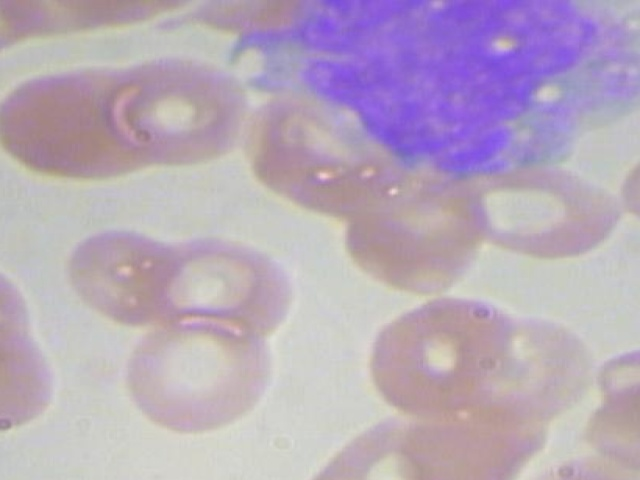RBC: (361, 288, 525, 420), (137, 227, 305, 345), (117, 315, 285, 432), (91, 49, 250, 162), (464, 159, 625, 264), (59, 226, 194, 328), (0, 320, 55, 438), (576, 378, 640, 476), (0, 0, 50, 76), (604, 138, 640, 243), (0, 250, 32, 363)
WBC: (225, 0, 640, 190)
